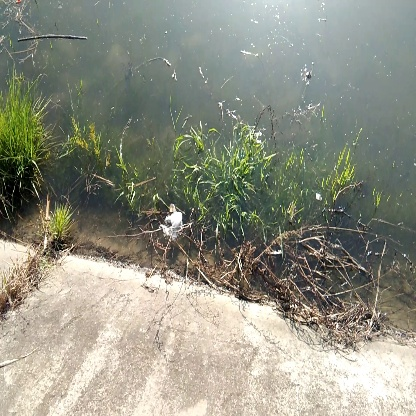plastic-bag: (156, 204, 190, 242)
